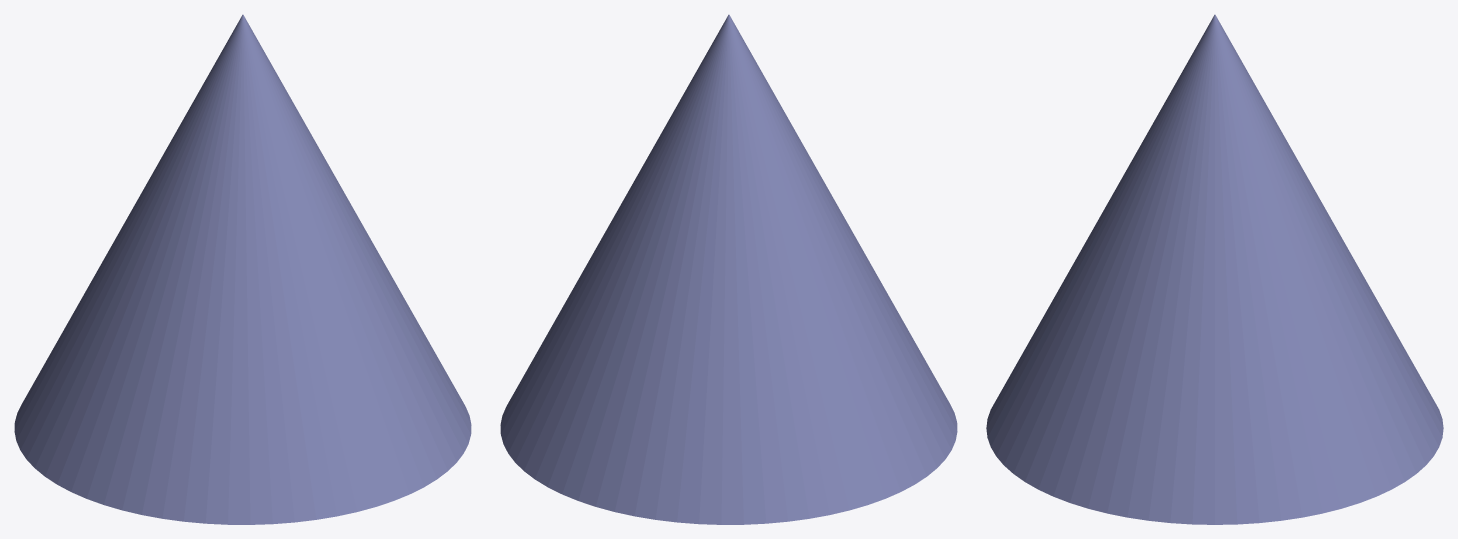
3 renders of one model, left to right at view 1: azimuth 30°, elevation 25°; view 2: azimuth 150°, elevation 25°; view 3: azimuth 270°, elevation 25°, orthographic.
Visible parts, largest first — view 1: Cone.007; view 2: Cone.007; view 3: Cone.007.
Part boxes in pixels (left/top/right/bottom): Cone.007: left=14, top=14, right=471, bottom=524; Cone.007: left=500, top=14, right=957, bottom=524; Cone.007: left=986, top=14, right=1443, bottom=524.
Bounding box in the file's own units: 3.88 × 3.88 × 3.88.
